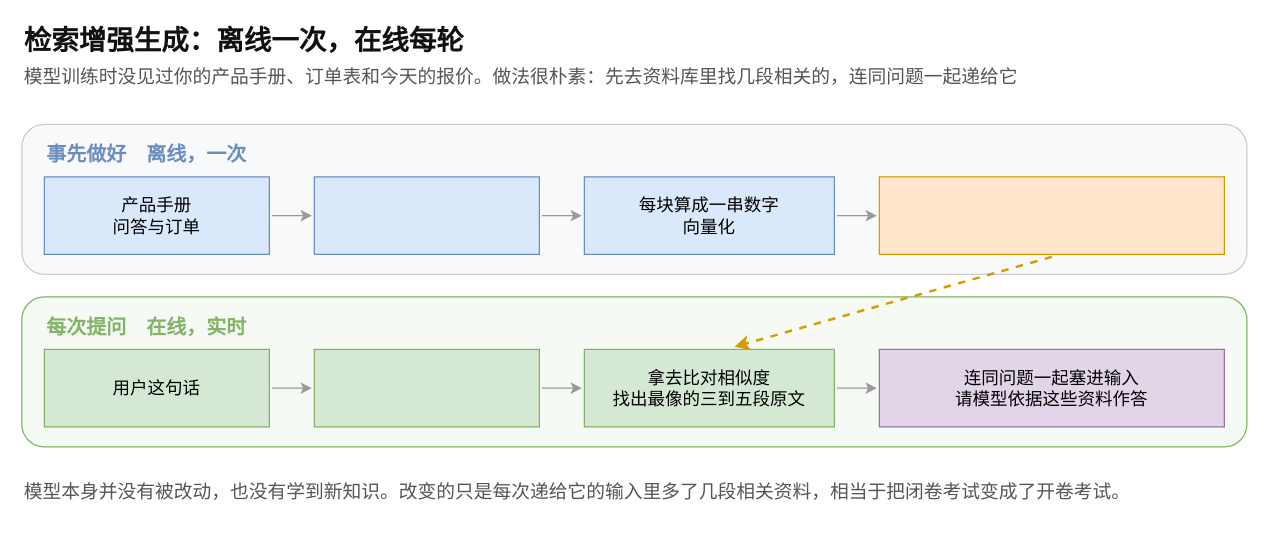
Some shapes in this 1269 by 553 pixel diagram are drawn without their labels. Here are the shapes that lost their labels. From the top down, the box of each, then its label:
(313, 176, 539, 254): 切成小块
(878, 176, 1224, 254): 存进向量数据库 一串数字对应一段原文
(313, 348, 539, 427): 同样算成一串数字
